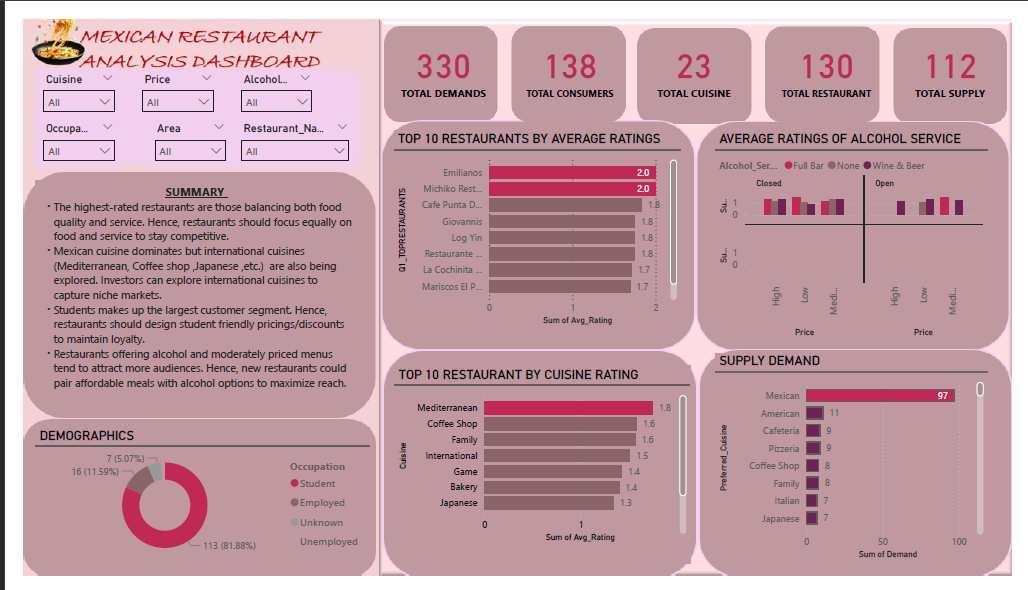

What the dashboard file says about the page in this screenshot:
{"tool":"powerbi","page":{"name":"Page 1","canvas":[1280,720],"ordinal":0},"visuals":[{"type":"card","fields":{"Values":["Q1a_TopRestaurant3.TOTAL DEMANDS"]},"box":[480,16,128,96],"z":0},{"type":"card","fields":{"Values":["Q1a_TopRestaurant3.TOTAL RESPONDENTS"]},"box":[640.7,16.2,133.7,95.5],"z":1000},{"type":"card","fields":{"Values":["Q1a_TopRestaurant3.TOTAL SUPPLY"]},"box":[1136,16,128,96],"z":2000},{"type":"clusteredBarChart","title":"TOP 10 RESTAURANTS BY AVERAGE RATINGS","fields":{"Category":["Q1a_TopRestaurant3.Restaurant_Name"],"Y":["Q1a_TopRestaurant3.Avg_Rating"]},"box":[480.5,144,370.3,255.7],"z":3000},{"type":"clusteredBarChart","title":"TOP 10 RESTAURANT BY CUISINE RATING","fields":{"Category":["Q1b_Cuisine2.Cuisine","Q1b_Cuisine2.Avg_Rating"],"Y":["Q1b_Cuisine2.Avg_Rating"]},"box":[480,448,384,256],"z":4000},{"type":"donutChart","title":"DEMOGRAPHICS","fields":{"Y":["Q2_DEMOGRAPHICS1.Num_Consumers"],"Category":["Q2_DEMOGRAPHICS1.Occupation"]},"box":[16,528,432,176],"z":5000},{"type":"clusteredColumnChart","title":"AVERAGE RATINGS OF ALCOHOL SERVICE","fields":{"Category":["Q4__characteristics.Price"],"Y":["Q4__characteristics.Avg_Rating"],"Series":["Q4__characteristics.Alcohol_Service"],"Rows":["Q4__characteristics.Area"]},"box":[896,144,352,272],"z":6000},{"type":"slicer","fields":{"Values":["Q1b_Cuisine2.Cuisine"]},"box":[16,64,112,64],"z":7000},{"type":"slicer","fields":{"Values":["Q4__characteristics.Price"]},"box":[144,64,112,64],"z":8000},{"type":"slicer","fields":{"Values":["Q2_DEMOGRAPHICS1.Occupation"]},"box":[16,128,112,64],"z":9000},{"type":"slicer","fields":{"Values":["Q4__characteristics.Area"]},"box":[160,128,112,64],"z":10000},{"type":"slicer","fields":{"Values":["Q4__characteristics.Alcohol_Service"]},"box":[272,64,112,64],"z":11000},{"type":"slicer","fields":{"Values":["Q1a_TopRestaurant3.Restaurant_Name"]},"box":[272,128,160,64],"z":12000},{"type":"card","fields":{"Values":["Q1a_TopRestaurant3.TOTAL CUISINE"]},"box":[808.2,16.2,120.5,95.5],"z":13000},{"type":"card","fields":{"Values":["Q1a_TopRestaurant3.TOTAL RESTAURANT"]},"box":[976,16,128,96],"z":14000},{"type":"clusteredBarChart","title":"SUPPLY DEMAND","fields":{"Category":["Q3_Supply_demand.Preferred_Cuisine"],"Y":["Q3_Supply_demand.Demand"]},"box":[896,432,352,272],"z":15000},{"type":"textbox","box":[16,208,416,288],"z":16000}]}

Visuals, with their boxes in screenshot pixels (x1, y1, x2, y2), scaled from the page's 1280x720 canvas onto the 1028x590 screenshot:
card - Q1a_TopRestaurant3.TOTAL DEMANDS: select_region(386, 13, 488, 92)
card - Q1a_TopRestaurant3.TOTAL RESPONDENTS: select_region(515, 13, 622, 92)
card - Q1a_TopRestaurant3.TOTAL SUPPLY: select_region(912, 13, 1015, 92)
"TOP 10 RESTAURANTS BY AVERAGE RATINGS" clusteredBarChart: select_region(386, 118, 683, 328)
"TOP 10 RESTAURANT BY CUISINE RATING" clusteredBarChart: select_region(386, 367, 694, 577)
"DEMOGRAPHICS" donutChart: select_region(13, 433, 360, 577)
"AVERAGE RATINGS OF ALCOHOL SERVICE" clusteredColumnChart: select_region(720, 118, 1002, 341)
slicer - Q1b_Cuisine2.Cuisine: select_region(13, 52, 103, 105)
slicer - Q4__characteristics.Price: select_region(116, 52, 206, 105)
slicer - Q2_DEMOGRAPHICS1.Occupation: select_region(13, 105, 103, 157)
slicer - Q4__characteristics.Area: select_region(128, 105, 218, 157)
slicer - Q4__characteristics.Alcohol_Service: select_region(218, 52, 308, 105)
slicer - Q1a_TopRestaurant3.Restaurant_Name: select_region(218, 105, 347, 157)
card - Q1a_TopRestaurant3.TOTAL CUISINE: select_region(649, 13, 746, 92)
card - Q1a_TopRestaurant3.TOTAL RESTAURANT: select_region(784, 13, 887, 92)
"SUPPLY DEMAND" clusteredBarChart: select_region(720, 354, 1002, 577)
textbox: select_region(13, 170, 347, 406)
